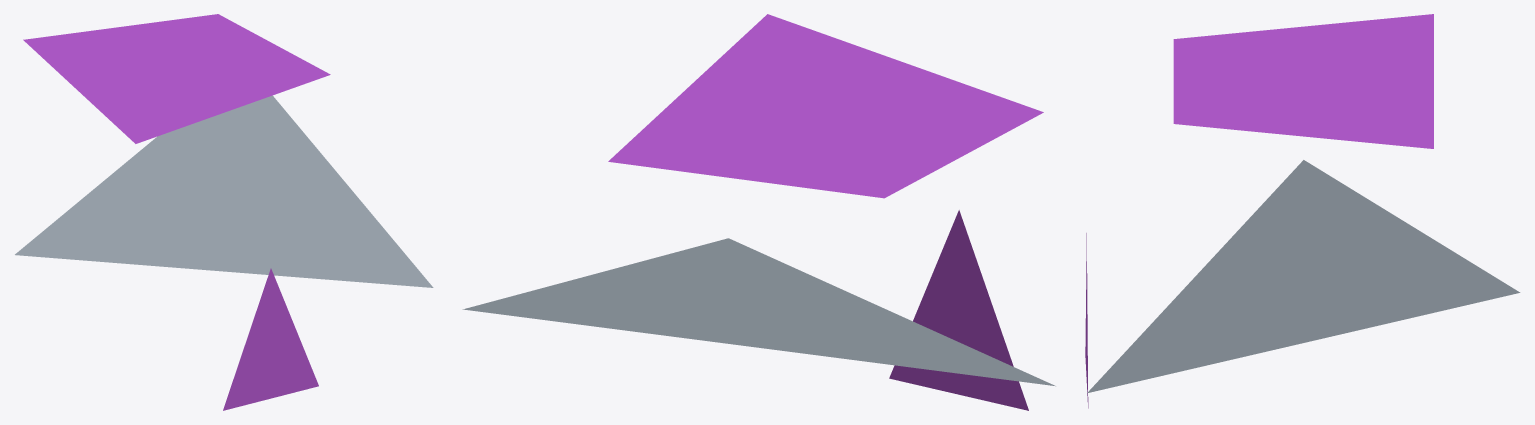
File: CH_SuperweaponSingularity_LOD2.glb
The picture shows the model from 3 angles, left to right: view 1: azimuth 30°, elevation 25°; view 2: azimuth 150°, elevation 25°; view 3: azimuth 270°, elevation 25°; orthographic projection. The views are drawn at different scales.
Parts seen in each view (by area): view 1: EntranceGate; view 2: EntranceGate; view 3: EntranceGate.
Boxes of the visible parts, left/top/right/bottom form: EntranceGate: left=15, top=14, right=433, bottom=410; EntranceGate: left=462, top=14, right=1055, bottom=410; EntranceGate: left=1085, top=14, right=1520, bottom=408.
Bounding box in the file's own units: 1000 × 800 × 1003.
